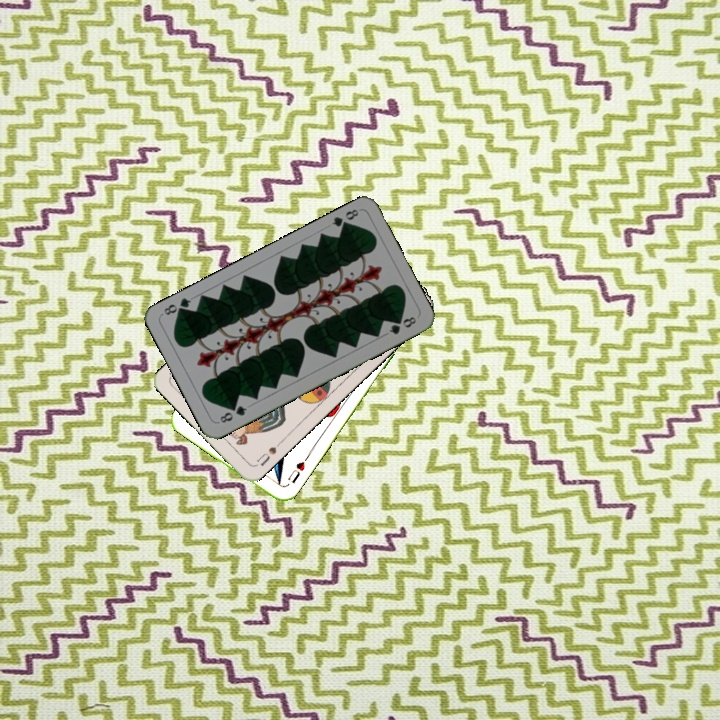G8: (327, 205, 361, 233), (216, 401, 250, 426)
HU: (283, 457, 308, 486)
SU: (251, 437, 284, 469)
